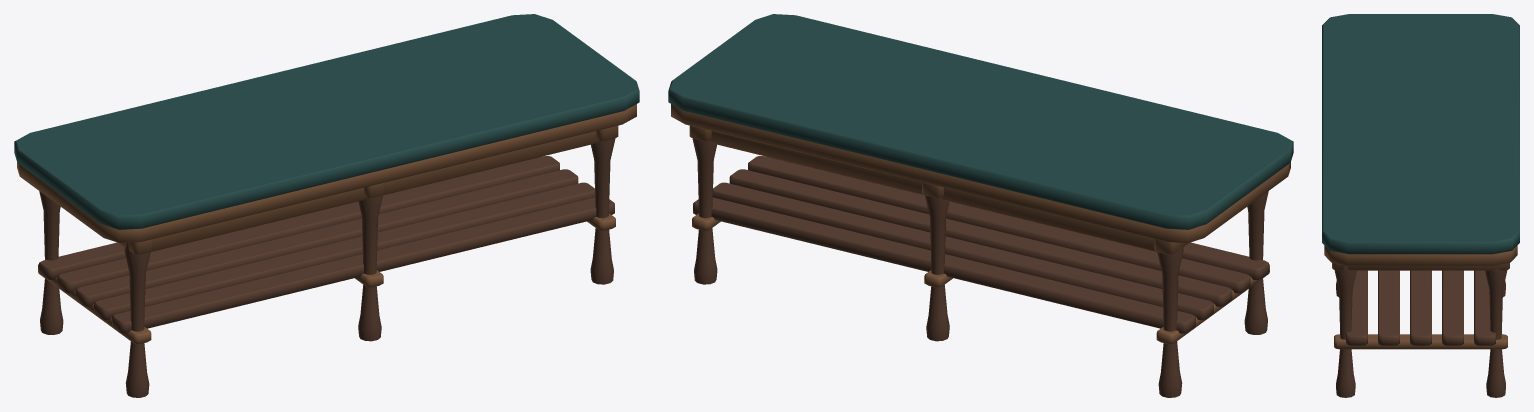
The model's file is rpg-mansion-boot-bench-01.glb.
3 views of the same model, side by side, from view 1: azimuth 30°, elevation 25°; view 2: azimuth 150°, elevation 25°; view 3: azimuth 270°, elevation 25° (orthographic). The views are drawn at different scales.
Visible parts, largest first — view 1: rpg-mansion-boot-bench-01; view 2: rpg-mansion-boot-bench-01; view 3: rpg-mansion-boot-bench-01.
Part boxes in pixels (x1,y1,x2,y2): rpg-mansion-boot-bench-01: (14,14,639,397); rpg-mansion-boot-bench-01: (668,14,1293,397); rpg-mansion-boot-bench-01: (1322,14,1519,397).
Size of the model in its own units: 1.36 by 0.46 by 0.495.
